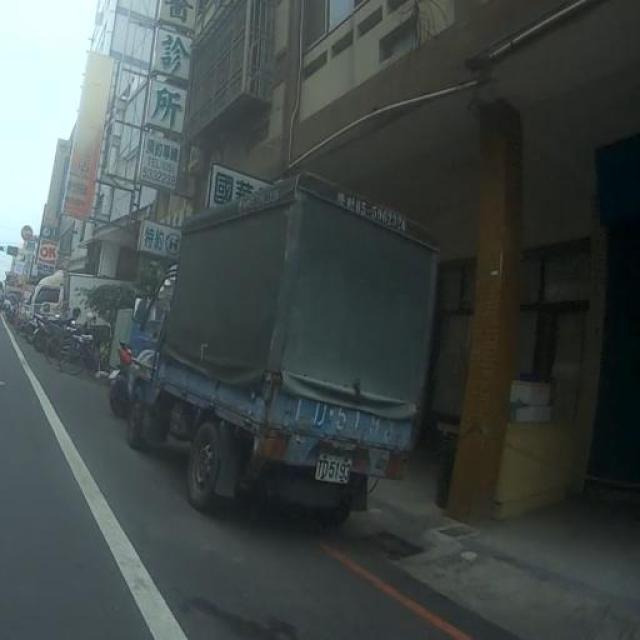Legalparking: (33, 258, 133, 376)
illegalparking: (129, 174, 438, 521)
